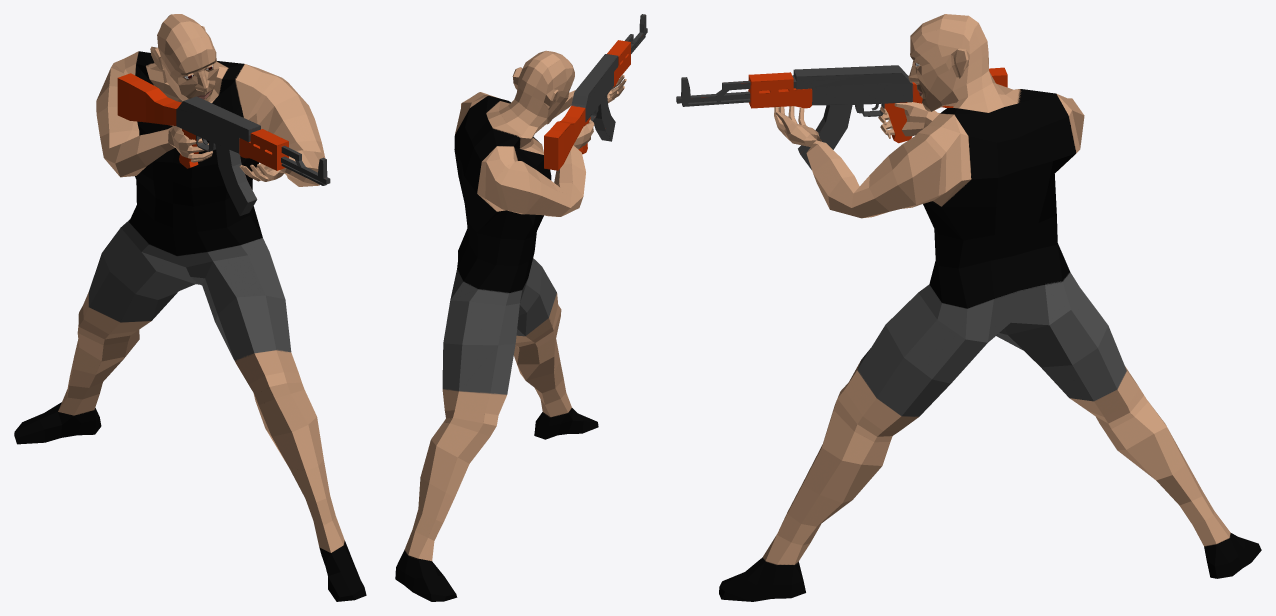
Rendered from PlayerShoot(15).obj.
3 views of the same model, side by side, from view 1: azimuth 30°, elevation 25°; view 2: azimuth 150°, elevation 25°; view 3: azimuth 270°, elevation 25° (orthographic). The views are drawn at different scales.
Parts seen in each view (by area): view 1: Plane002, Object001; view 2: Plane002, Object001; view 3: Plane002, Object001.
Part boxes in pixels (bbox=[...]): Plane002: bbox=[14, 14, 366, 601]; Object001: bbox=[117, 73, 330, 215]; Plane002: bbox=[395, 50, 626, 601]; Object001: bbox=[544, 14, 647, 170]; Plane002: bbox=[719, 14, 1261, 601]; Object001: bbox=[676, 65, 1007, 169].
Size of the model in its own units: 540 by 1629 by 1586.
